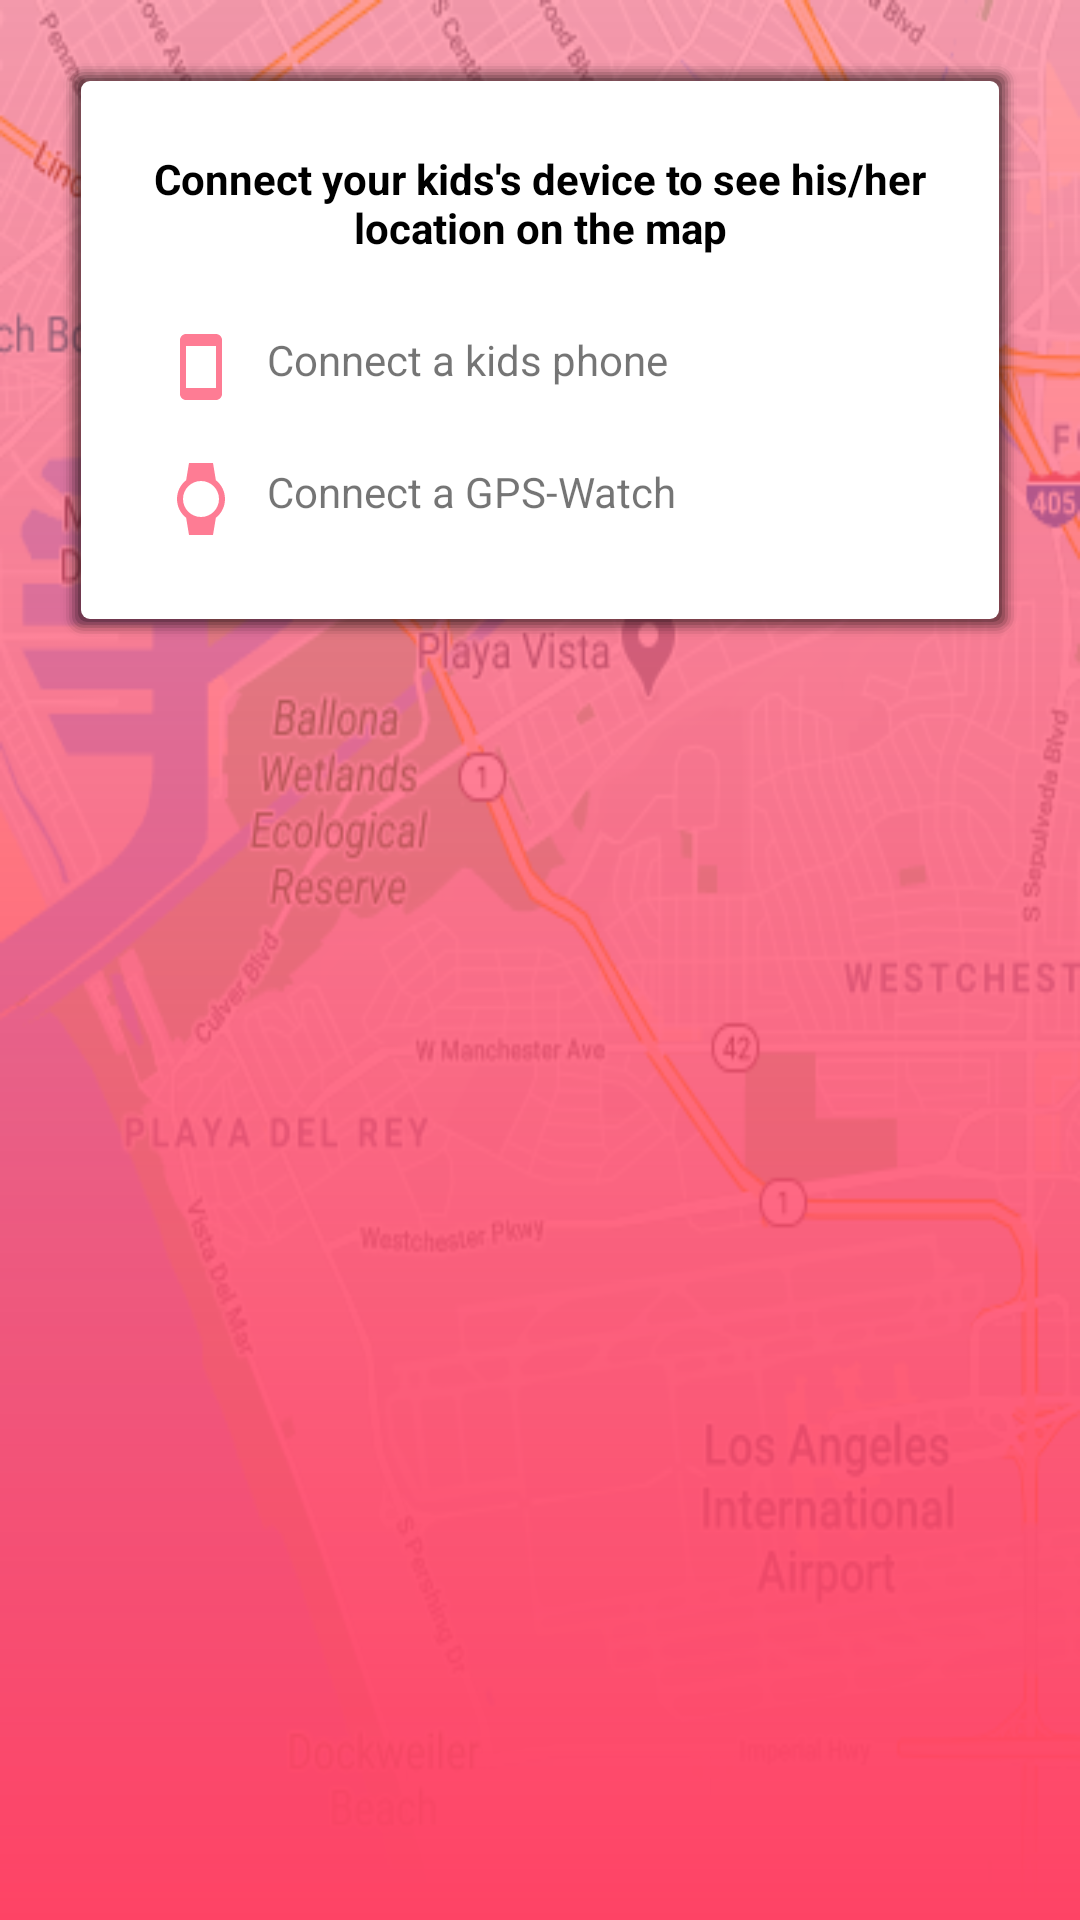

Where to tap for icons on this 1080 × 1920 app screen, as (x=x, y=y):
smartphone: (x=201, y=367)
